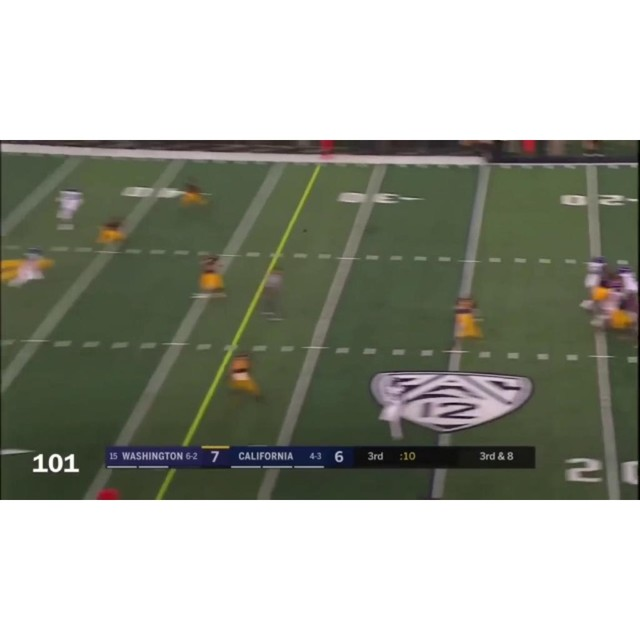american-football-player: (449, 294, 488, 358), (225, 349, 264, 405), (9, 245, 54, 290), (580, 254, 610, 321), (196, 252, 228, 301), (53, 187, 86, 232), (92, 215, 130, 254), (261, 266, 287, 322), (178, 177, 211, 218)
